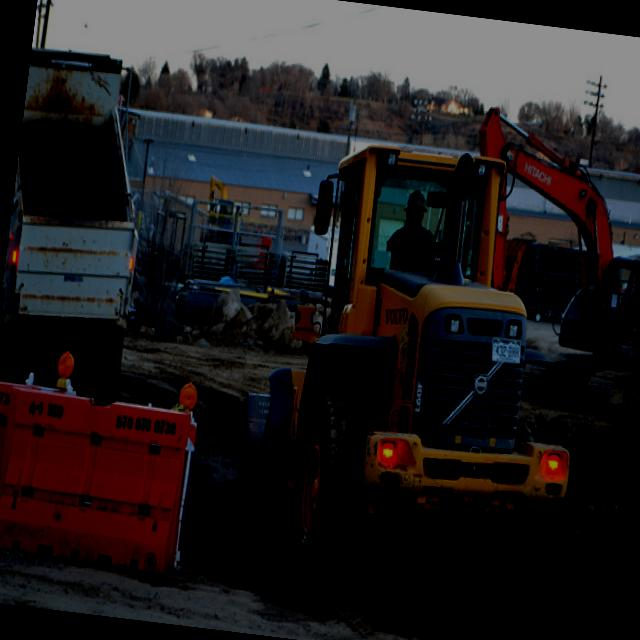Vehicle: (220, 121, 609, 618), (0, 49, 167, 395), (590, 251, 640, 362)
